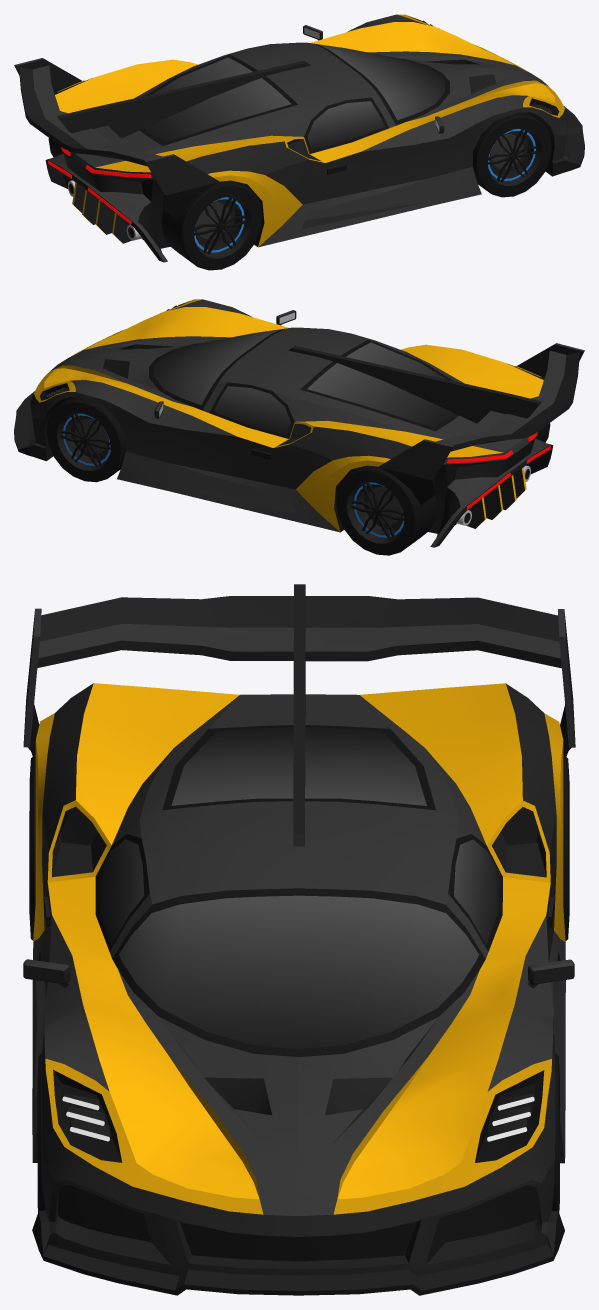
Rendered from RaceCar_041.glb.
3 renders of one model, top to bottom at view 1: azimuth 30°, elevation 25°; view 2: azimuth 150°, elevation 25°; view 3: azimuth 270°, elevation 25°, orthographic. The views are drawn at different scales.
Visible parts, largest first — view 1: RaceCar_041, wheel_3_RaceCar_041_Wheel_2R, wheel_1_RaceCar_041_Wheel_1R; view 2: RaceCar_041, wheel_2_RaceCar_041_Wheel_2L, wheel_0_RaceCar_041_Wheel_1L; view 3: RaceCar_041, wheel_2_RaceCar_041_Wheel_2L, wheel_3_RaceCar_041_Wheel_2R.
Part boxes in pixels (x1,y1,x2,y2): RaceCar_041: (14, 14, 584, 262); wheel_3_RaceCar_041_Wheel_2R: (161, 180, 262, 270); wheel_1_RaceCar_041_Wheel_1R: (472, 112, 551, 197); RaceCar_041: (14, 299, 584, 547); wheel_2_RaceCar_041_Wheel_2L: (336, 465, 436, 555); wheel_0_RaceCar_041_Wheel_1L: (47, 397, 125, 482); RaceCar_041: (23, 584, 575, 1295); wheel_2_RaceCar_041_Wheel_2L: (563, 755, 569, 940); wheel_3_RaceCar_041_Wheel_2R: (29, 755, 35, 940).
Bounding box in the file's own units: 4.71 × 1.12 × 2.19.
Materials: 3 (3 with a texture image).
